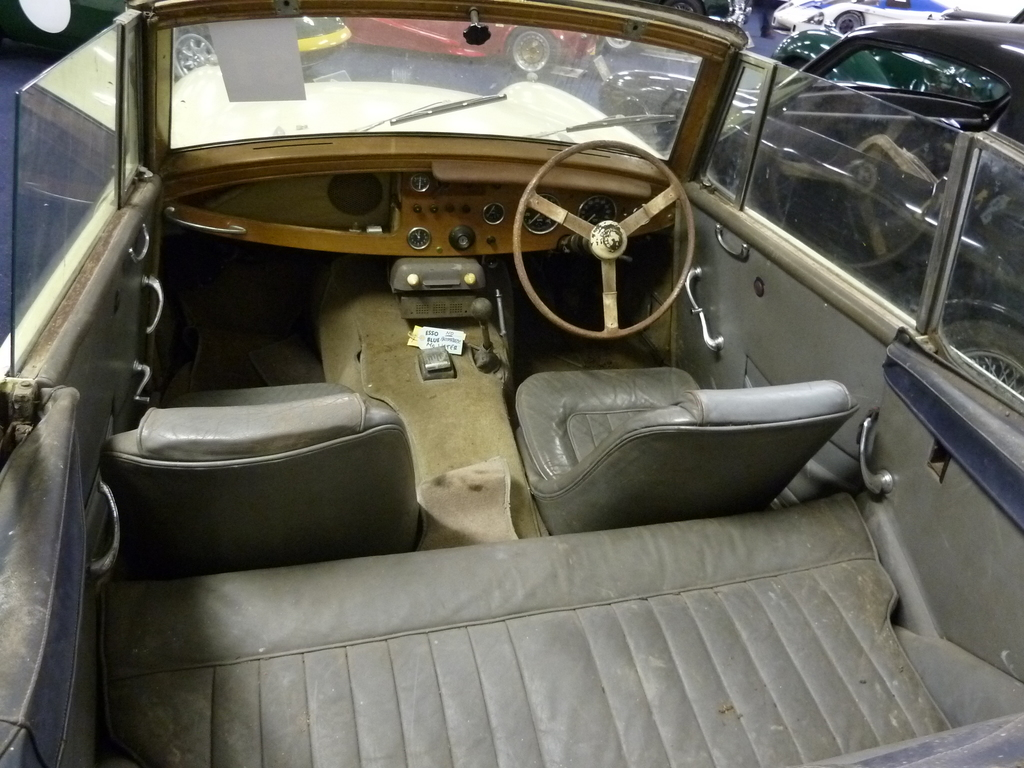Car: (0, 21, 1012, 736), (607, 24, 1023, 398), (352, 16, 602, 76), (181, 8, 349, 83), (773, 0, 952, 37)
